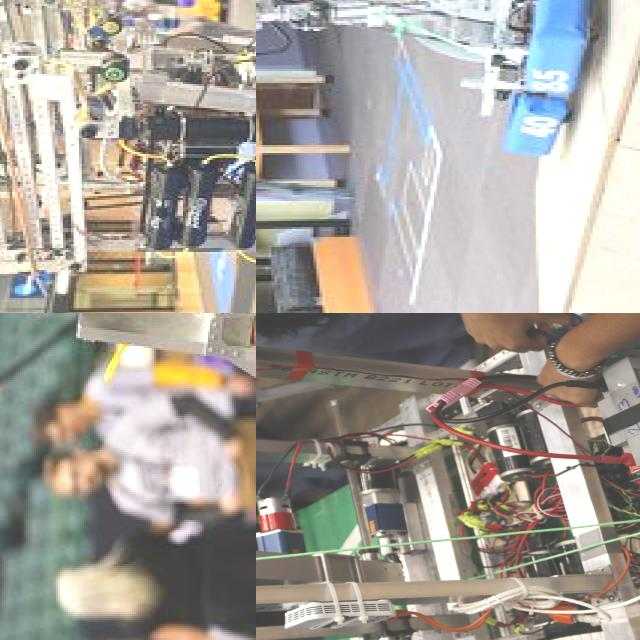FRC-Robots: (256, 313, 640, 640), (33, 313, 256, 640), (100, 0, 256, 313), (256, 0, 616, 129)
